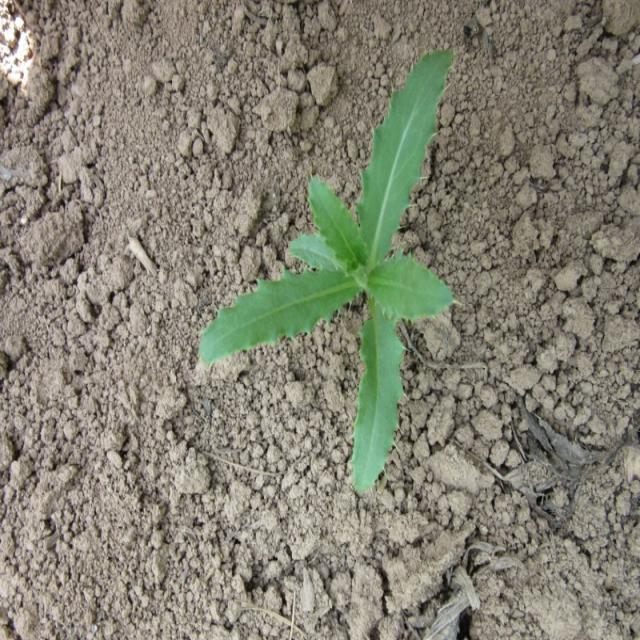field_thistle: (180, 42, 474, 492)
